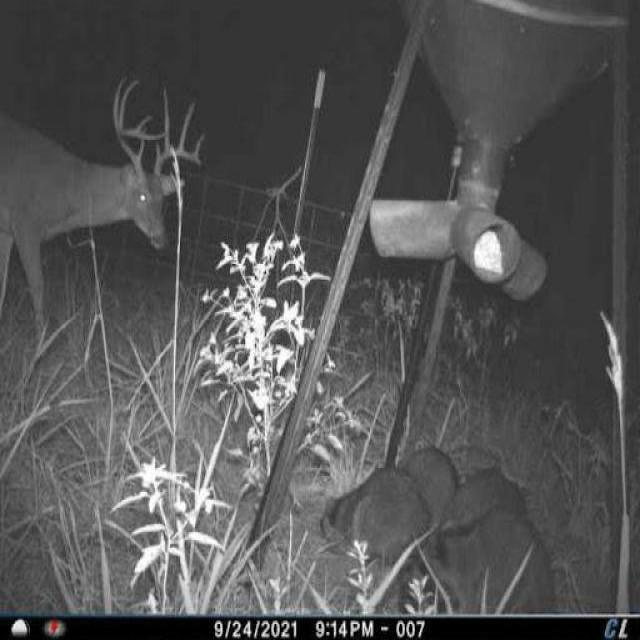deer: (5, 80, 211, 367)
